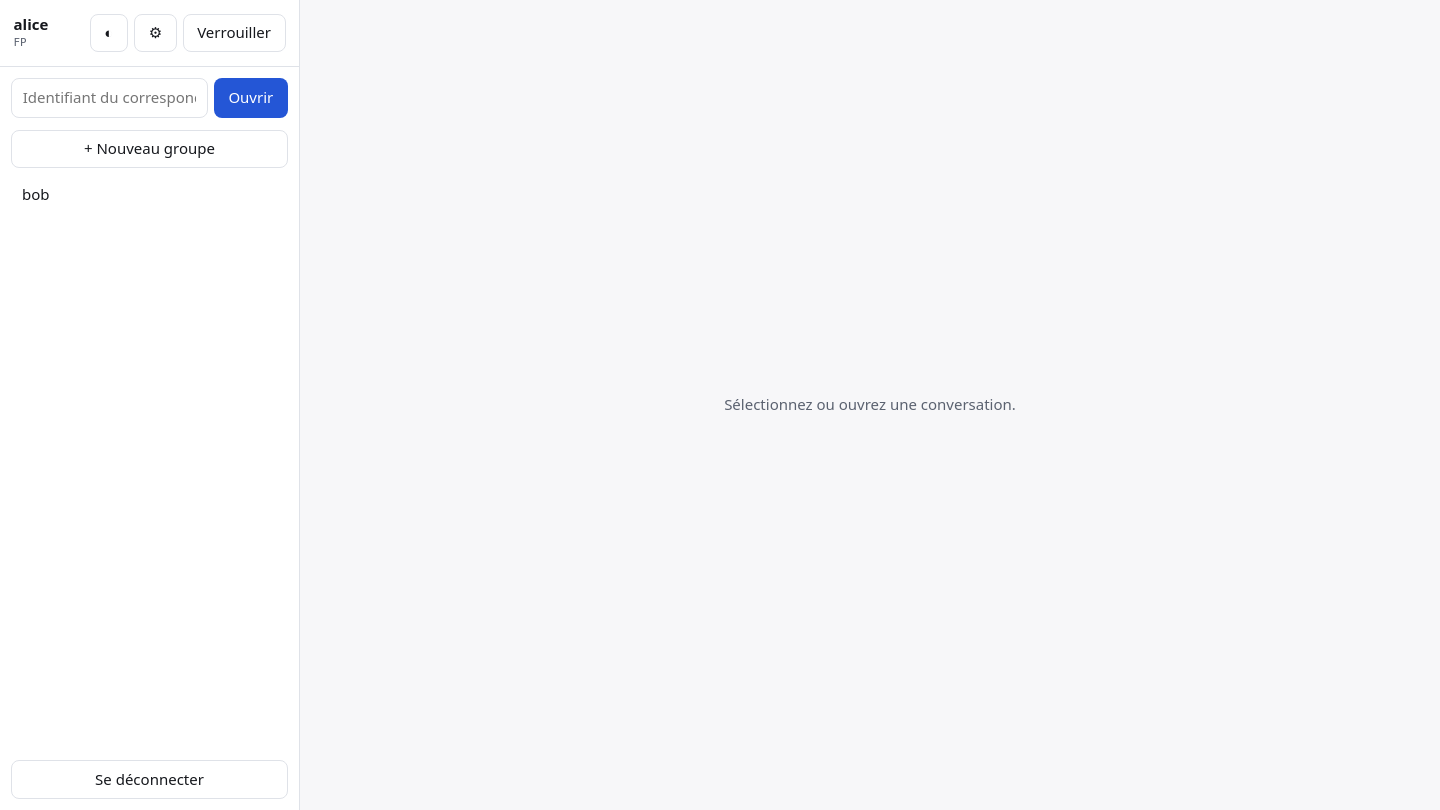
Conversation › ouvre une conversation et envoie un message avec Entrée
Click the button "bob": [36, 194] box x1=8 y1=176 x2=292 y2=215
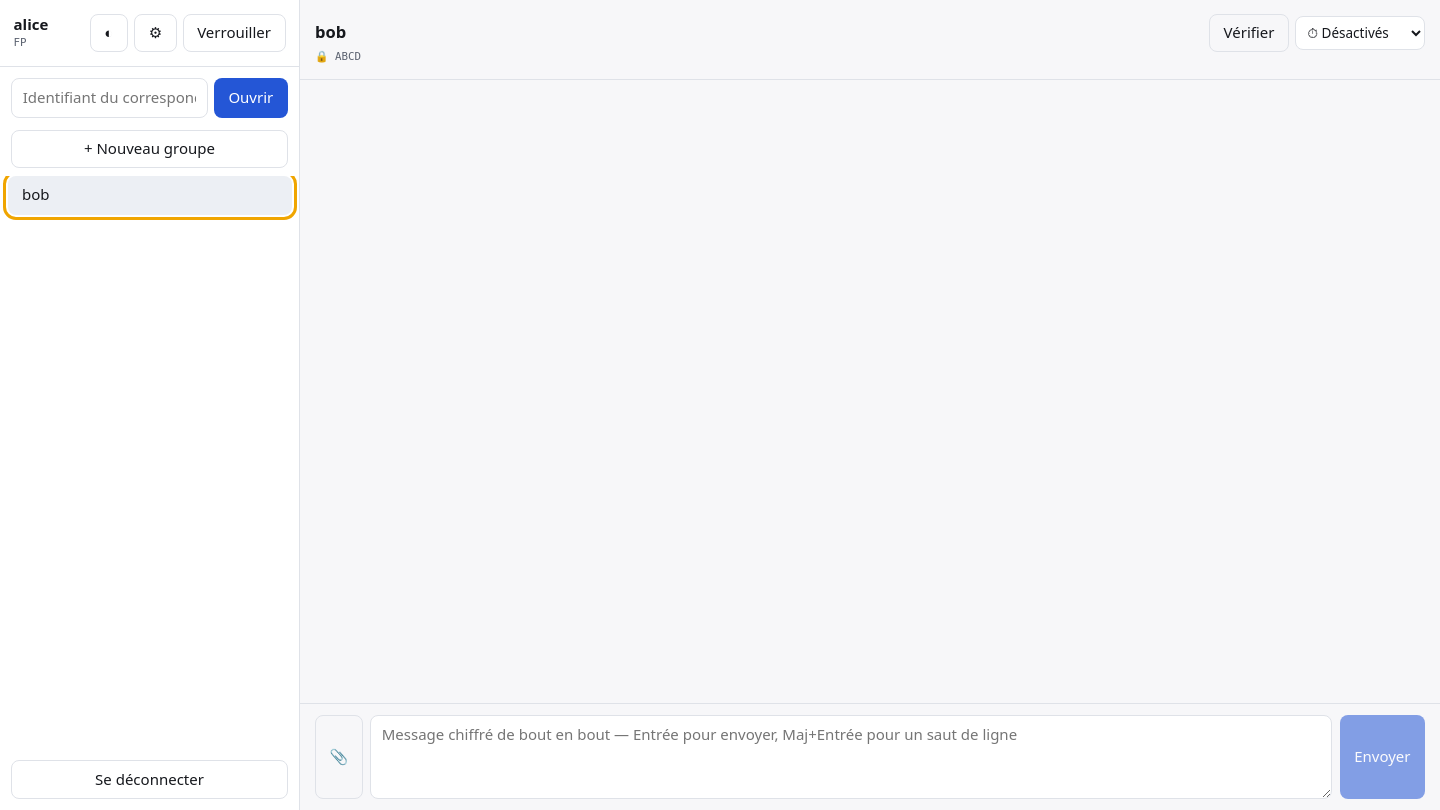
In the text box named "Message (Markdown)": [851, 757] box x1=370 y1=715 x2=1332 y2=799, type "salut"
Then press Enter
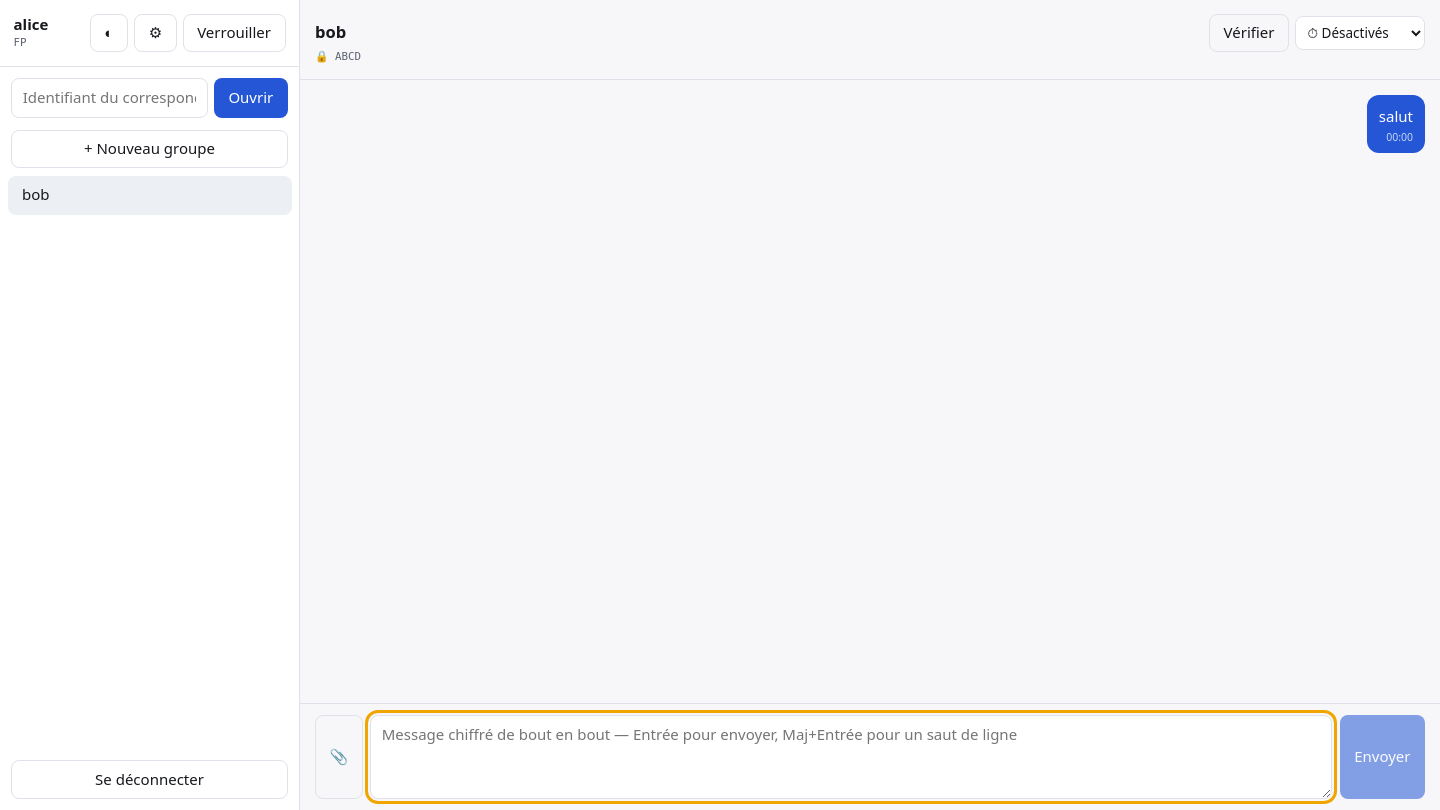
Now the text box named "Message (Markdown)" is empty, box x1=370 y1=715 x2=1332 y2=799
Now the text "salut" is shown, box x1=1379 y1=106 x2=1413 y2=128
